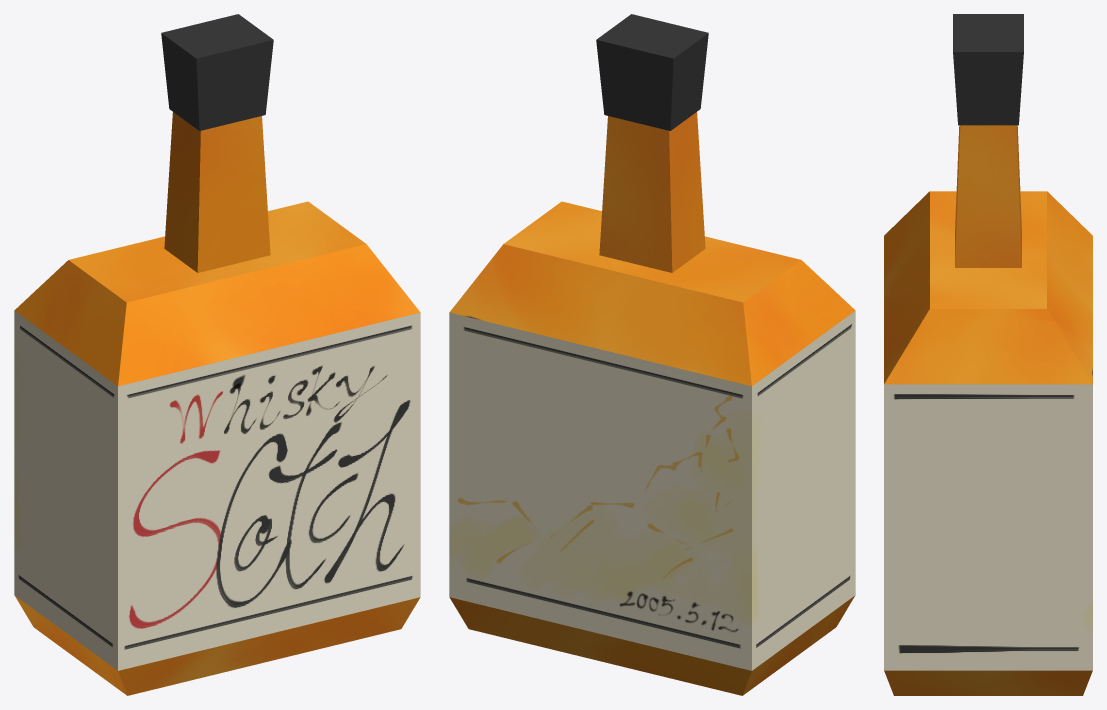
The model's file is Whiskey.obj.
The picture shows the model from 3 angles, left to right: view 1: azimuth 30°, elevation 25°; view 2: azimuth 150°, elevation 25°; view 3: azimuth 270°, elevation 25°; orthographic projection.
Parts seen in each view (by area): view 1: Whiskey; view 2: Whiskey; view 3: Whiskey.
Boxes of the visible parts, x1,y1,x2,y2 form: Whiskey: (14,14,420,695); Whiskey: (449,14,855,695); Whiskey: (884,14,1092,695).
Bounding box in the file's own units: 0.2325 × 0.4344 × 0.138.
1 material, 1 textured.
